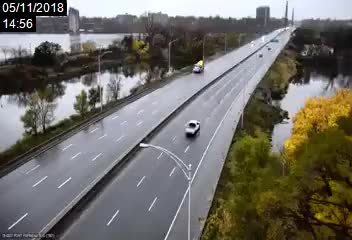personal_car: (184, 120, 202, 136)
truck: (193, 60, 205, 73)
